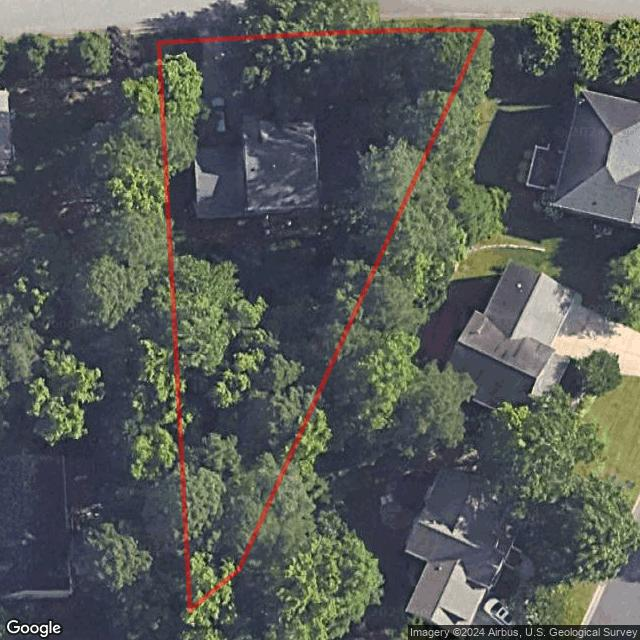Driveway: (201, 38, 242, 142)
Extra-Driveway: (196, 24, 241, 42)
Extra-Lawn: (239, 19, 482, 37), (157, 28, 202, 43)
House: (192, 110, 321, 218)
Lawn: (158, 31, 483, 608)
Other: (258, 206, 332, 243)
